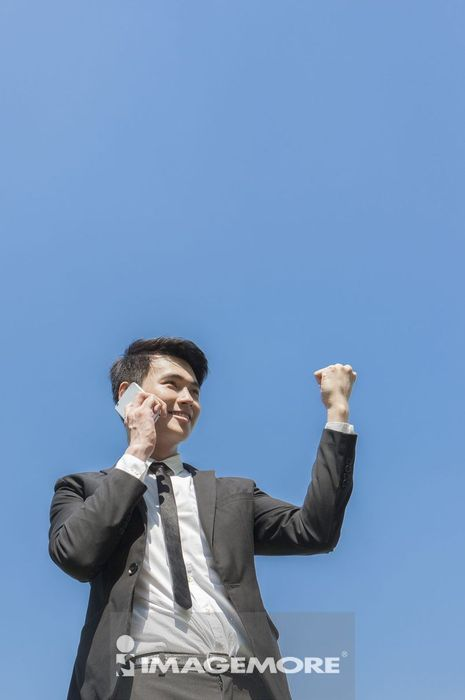phone: (116, 383, 160, 429)
talk: (114, 369, 201, 458)
